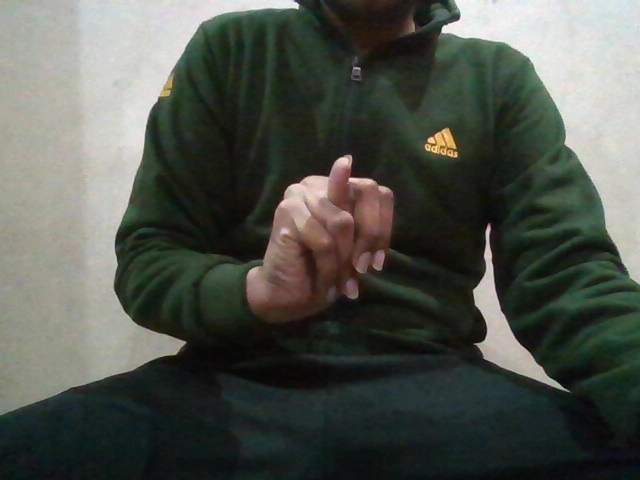N: (261, 149, 403, 329)
